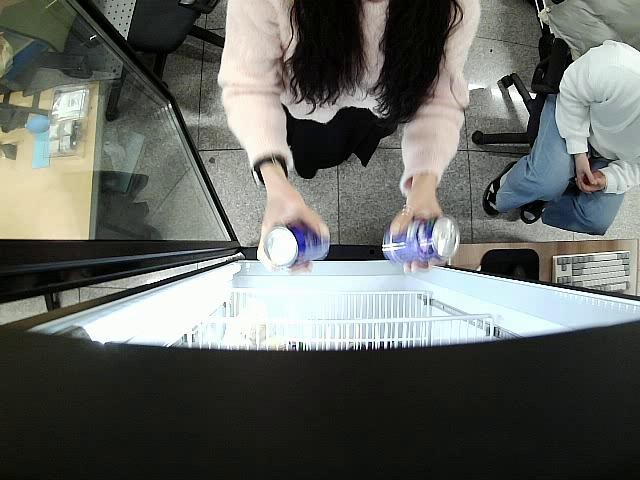14_welchsGrape: (383, 214, 458, 264), (263, 221, 330, 267)
